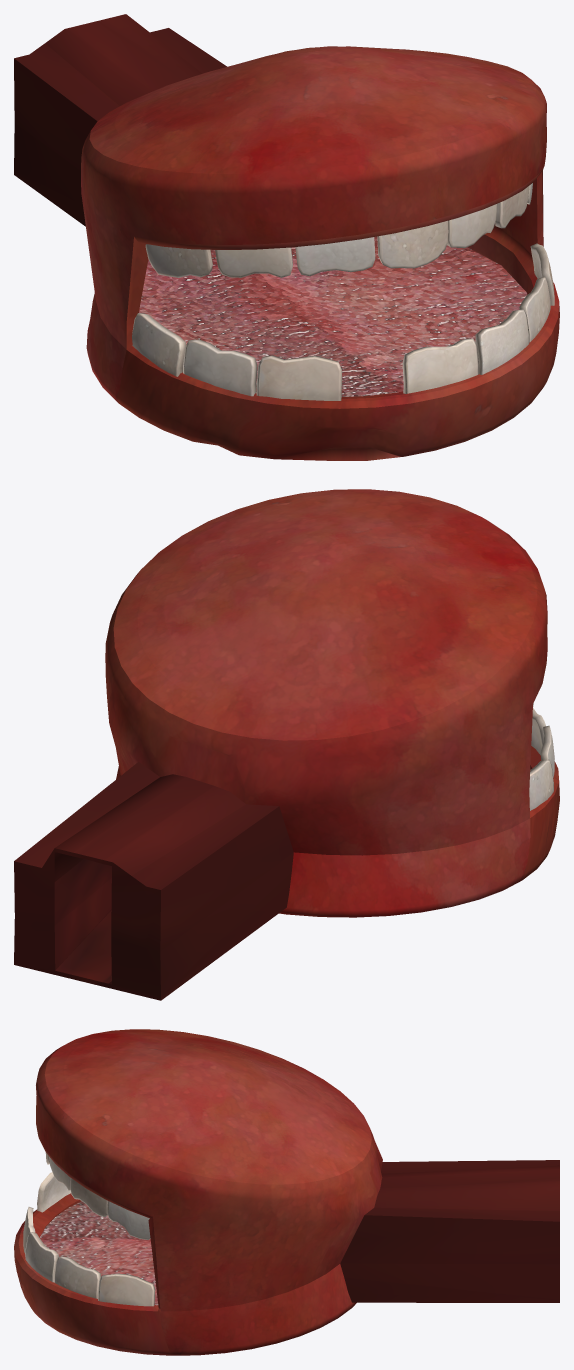
The model's file is SM_New_Mouth_end_room.fbx.
The picture shows the model from 3 angles, top to bottom: view 1: azimuth 30°, elevation 25°; view 2: azimuth 150°, elevation 25°; view 3: azimuth 270°, elevation 25°; orthographic projection. The views are drawn at different scales.
Parts seen in each view (by area): view 1: SM_Mouth_Hole, Tongue, Teeth; view 2: SM_Mouth_Hole, Teeth; view 3: SM_Mouth_Hole, Teeth, Tongue.
Part boxes in pixels (x1,y1,x2,y2): SM_Mouth_Hole: (14,14,559,460); Tongue: (139,236,527,396); Teeth: (132,183,554,400); SM_Mouth_Hole: (14,489,559,1000); Teeth: (529,703,554,810); SM_Mouth_Hole: (14,1029,559,1355); Teeth: (23,1152,155,1306); Tongue: (40,1201,158,1305).
Size of the model in its own units: 3.49 by 2.55 by 5.46.
